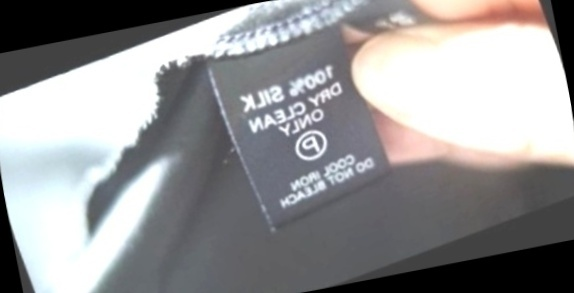dry_clean_any_solvent_except_trichloroethylene: (281, 117, 339, 173)
